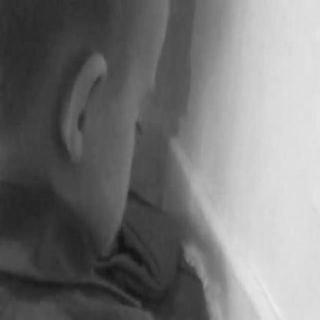other: (122, 194, 205, 318)
